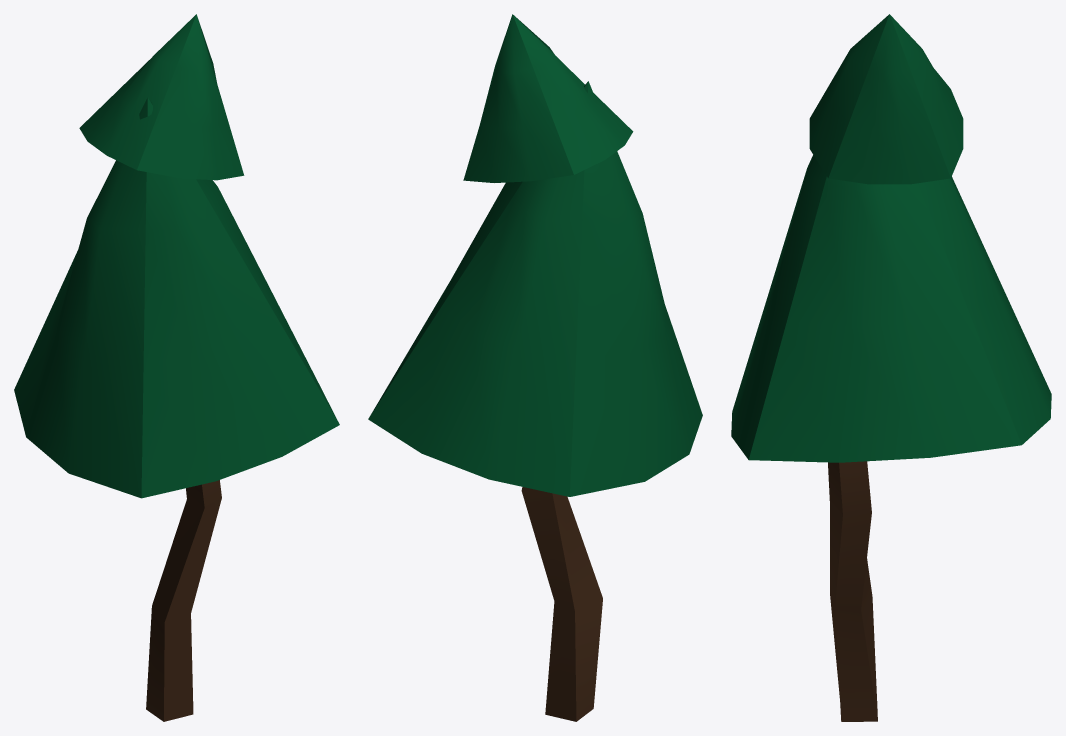
The model's file is Coni_Tree3.fbx.
3 views of the same model, side by side, from view 1: azimuth 30°, elevation 25°; view 2: azimuth 150°, elevation 25°; view 3: azimuth 270°, elevation 25° (orthographic). The views are drawn at different scales.
Parts seen in each view (by area): view 1: Coni_Tree3_Leaves, Coni_Tree3_Leaves2, Coni_Tree3; view 2: Coni_Tree3_Leaves, Coni_Tree3_Leaves2, Coni_Tree3; view 3: Coni_Tree3_Leaves, Coni_Tree3_Leaves2, Coni_Tree3.
Boxes of the visible parts, box(x1,y1,x2,y2) form: Coni_Tree3_Leaves: box(14, 97, 339, 498); Coni_Tree3_Leaves2: box(79, 14, 244, 180); Coni_Tree3: box(146, 480, 221, 721); Coni_Tree3_Leaves: box(368, 81, 702, 496); Coni_Tree3_Leaves2: box(463, 14, 633, 182); Coni_Tree3: box(521, 487, 602, 721); Coni_Tree3_Leaves: box(731, 155, 1051, 462); Coni_Tree3_Leaves2: box(809, 14, 963, 184); Coni_Tree3: box(828, 461, 877, 721).
Bounding box in the file's own units: 97.73 × 255 × 103.
